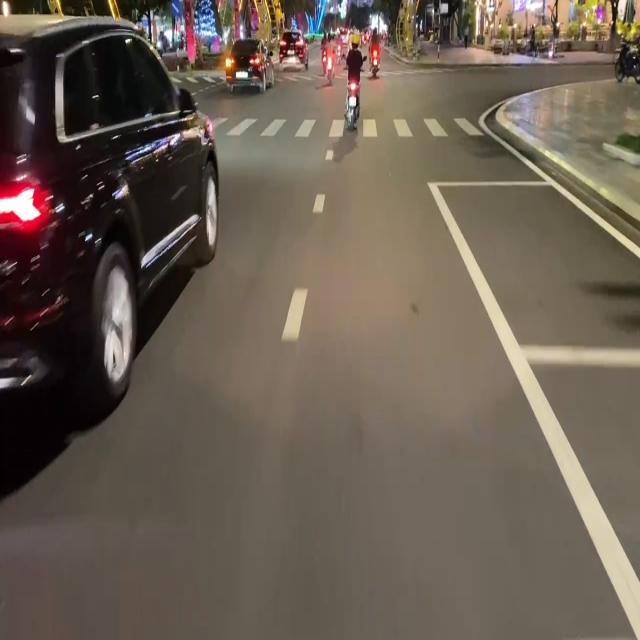walk-crossing: (228, 112, 504, 144)
